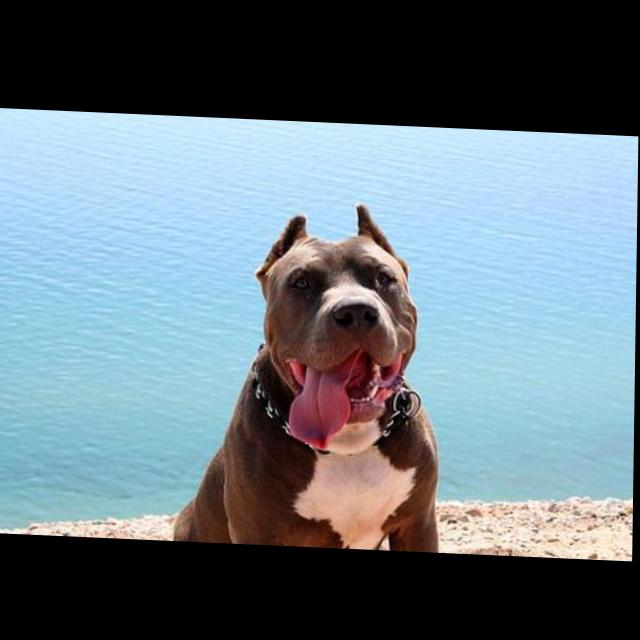amstaff: (166, 192, 448, 549)
